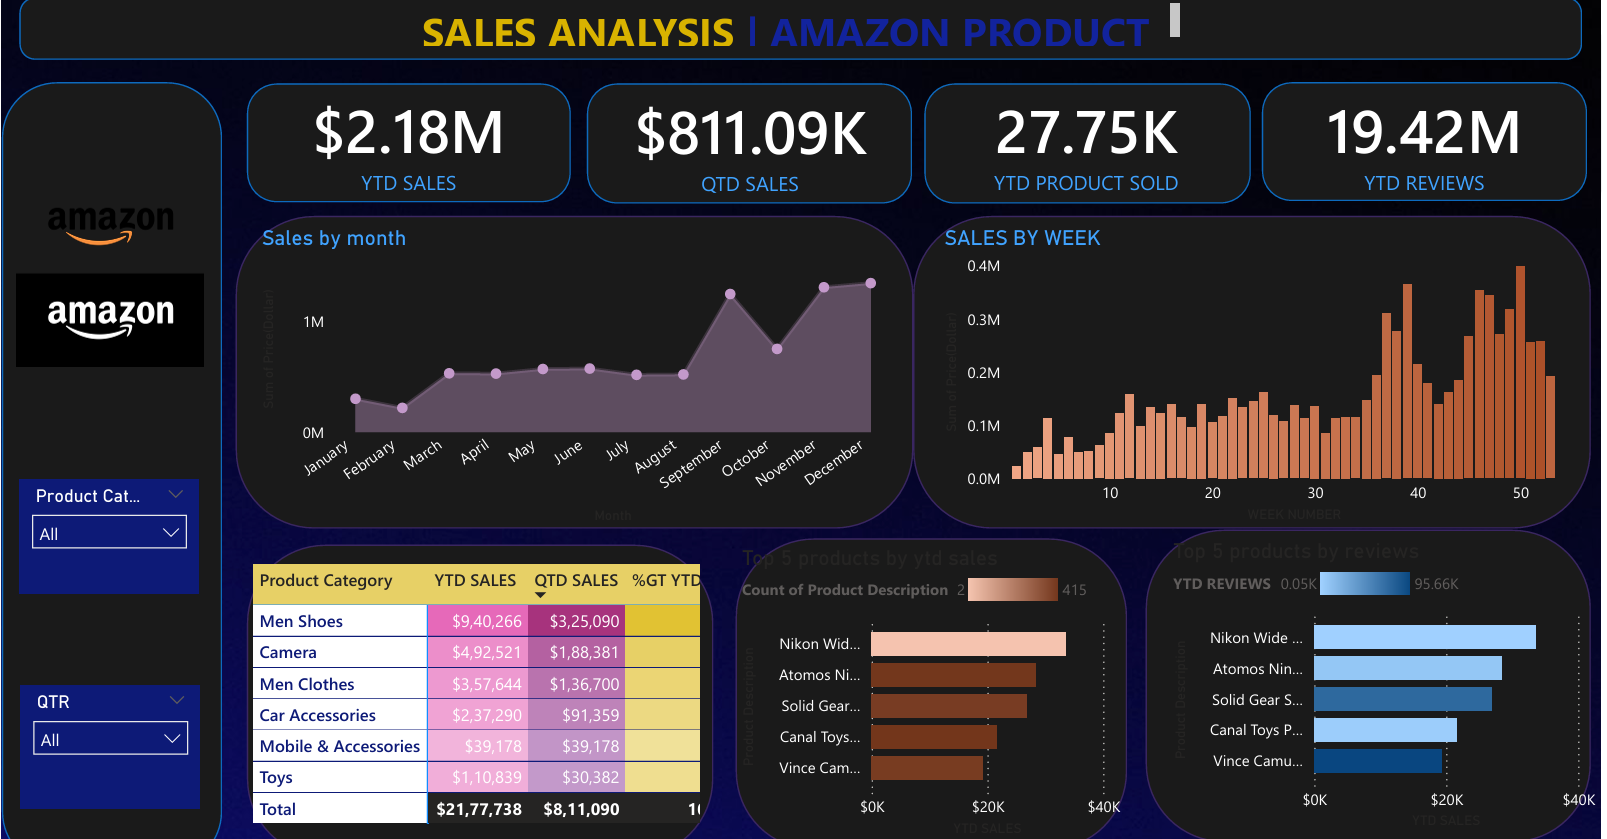

Layout of this report page (visuals, bound fields, positions):
{"tool":"powerbi","page":{"name":"Page 1","canvas":[1280,720],"ordinal":0},"visuals":[{"type":"shape","box":[13.7,5.5,1250.1,49.4],"z":0},{"type":"shape","box":[196.2,74.1,259.3,94.7],"z":0,"group":"g1"},{"type":"textbox","box":[330.7,5.5,617.5,43.9],"z":1000},{"type":"card","fields":{"Values":["Amazon_Data.YTD SALES"]},"box":[196.2,72.7,259.3,94.7],"z":1000,"group":"g1"},{"type":"shape","box":[0,72.7,175.6,628.5],"z":2000},{"type":"shape","box":[467.9,74.1,260.7,96.1],"z":2000,"group":"g1"},{"type":"group","id":"g1","title":"Group 1","box":[196.2,72.7,1071.7,97.4],"z":3000},{"type":"shape","box":[738.2,74.1,260.7,96.1],"z":3000,"group":"g1"},{"type":"shape","box":[1008.6,72.7,259.3,94.7],"z":4000,"group":"g1"},{"type":"shape","box":[186.6,179.8,542,250],"z":4000},{"type":"card","fields":{"Values":["Amazon_Data.QTD SALES"]},"box":[469.3,74.1,259.3,94.7],"z":5000,"group":"g1"},{"type":"areaChart","title":"Sales by month","fields":{"Category":["Date table.Date.Variation.Date Hierarchy.Month"],"Y":["Sum(Amazon_Data.Price(Dollar))"]},"box":[203.1,186.6,511.8,244.3],"z":5000},{"type":"card","fields":{"Values":["Amazon_Data.YTD REVIEWS"]},"box":[1008.6,72.7,259.3,94.7],"z":6000,"group":"g1"},{"type":"shape","box":[728.6,179.8,542,249.7],"z":6000},{"type":"card","fields":{"Values":["Amazon_Data.YTD PRODUCT SOLD"]},"box":[738.2,72.7,259.3,94.7],"z":7000,"group":"g1"},{"type":"columnChart","title":"SALES BY WEEK","fields":{"Category":["Date table.WEEK NUMBER"],"Y":["Sum(Amazon_Data.Price(Dollar))"]},"box":[749.2,186.6,518.7,242.9],"z":7000},{"type":"shape","box":[196.2,443.2,373.2,249.7],"z":8000},{"type":"shape","box":[587.3,437.7,312.9,249.7],"z":9000},{"type":"pivotTable","fields":{"Rows":["Amazon_Data.Product Category"],"Values":["Amazon_Data.YTD SALES1","Amazon_Data.QTD SALES","Amazon_Data.YTD SALES"]},"box":[196.2,454.2,366.4,238.8],"z":10000},{"type":"shape","box":[915.3,430.9,355.4,249.7],"z":11000},{"type":"clusteredBarChart","title":"Top 5 products by ytd sales","fields":{"Category":["Amazon_Data.Product Description"],"Y":["Amazon_Data.YTD SALES"]},"box":[587.3,443.2,312.9,237.4],"z":12000},{"type":"clusteredBarChart","title":"Top 5 products by reviews","fields":{"Category":["Amazon_Data.Product Description"],"Y":["Amazon_Data.YTD SALES"]},"box":[931.7,437.7,348.5,237.4],"z":13000},{"type":"slicer","fields":{"Values":["Amazon_Data.Product Category"]},"box":[13.7,391.1,144.1,91.9],"z":14000},{"type":"slicer","fields":{"Values":["Date table.QTR"]},"box":[15.1,555.7,144.1,98.8],"z":15000},{"type":"image","box":[6.9,91.9,160.5,267.6],"z":16000}]}

Visuals, with their boxes on the page's 1280x720 design canvas (x1, y1, x2, y2). These are canvas units, not pixel positions in the 1607x839 screenshot, which may show the page scaled, cropped or inside an application window:
shape: [x1=14, y1=6, x2=1264, y2=55]
shape: [x1=196, y1=74, x2=456, y2=169]
textbox: [x1=331, y1=6, x2=948, y2=49]
card - Amazon_Data.YTD SALES: [x1=196, y1=73, x2=456, y2=167]
shape: [x1=0, y1=73, x2=176, y2=701]
shape: [x1=468, y1=74, x2=729, y2=170]
"Group 1" group: [x1=196, y1=73, x2=1268, y2=170]
shape: [x1=738, y1=74, x2=999, y2=170]
shape: [x1=1009, y1=73, x2=1268, y2=167]
shape: [x1=187, y1=180, x2=729, y2=430]
card - Amazon_Data.QTD SALES: [x1=469, y1=74, x2=729, y2=169]
"Sales by month" areaChart: [x1=203, y1=187, x2=715, y2=431]
card - Amazon_Data.YTD REVIEWS: [x1=1009, y1=73, x2=1268, y2=167]
shape: [x1=729, y1=180, x2=1271, y2=430]
card - Amazon_Data.YTD PRODUCT SOLD: [x1=738, y1=73, x2=998, y2=167]
"SALES BY WEEK" columnChart: [x1=749, y1=187, x2=1268, y2=430]
shape: [x1=196, y1=443, x2=569, y2=693]
shape: [x1=587, y1=438, x2=900, y2=687]
pivotTable - Amazon_Data.Product Category x Amazon_Data.YTD SALES1: [x1=196, y1=454, x2=563, y2=693]
shape: [x1=915, y1=431, x2=1271, y2=681]
"Top 5 products by ytd sales" clusteredBarChart: [x1=587, y1=443, x2=900, y2=681]
"Top 5 products by reviews" clusteredBarChart: [x1=932, y1=438, x2=1280, y2=675]
slicer - Amazon_Data.Product Category: [x1=14, y1=391, x2=158, y2=483]
slicer - Date table.QTR: [x1=15, y1=556, x2=159, y2=654]
image: [x1=7, y1=92, x2=167, y2=360]
